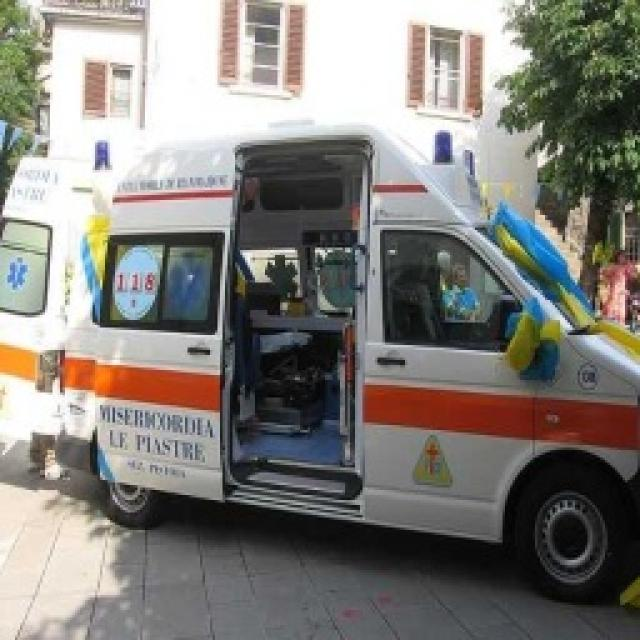emergency-vehicle: (59, 134, 640, 597), (12, 157, 112, 505)
